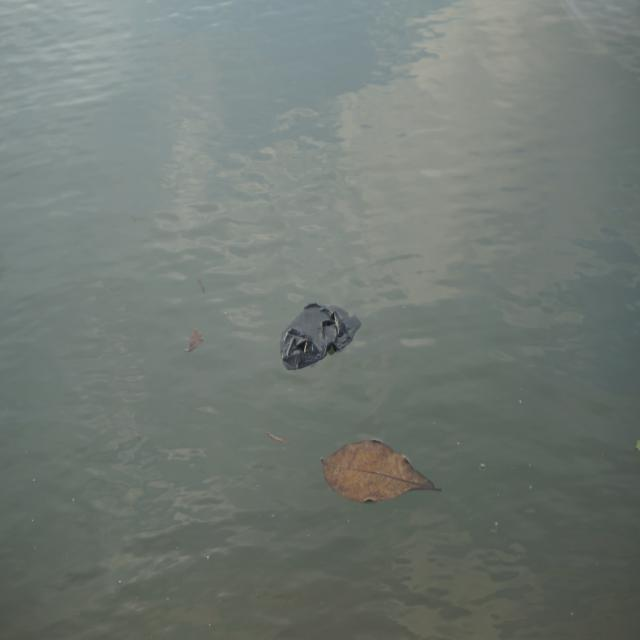Kantong Plastik: (279, 294, 360, 378)
